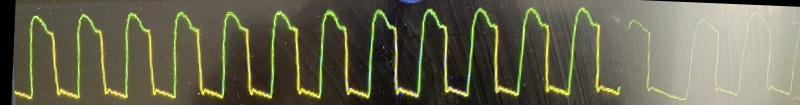normal_pressure: (20, 1, 649, 105)
